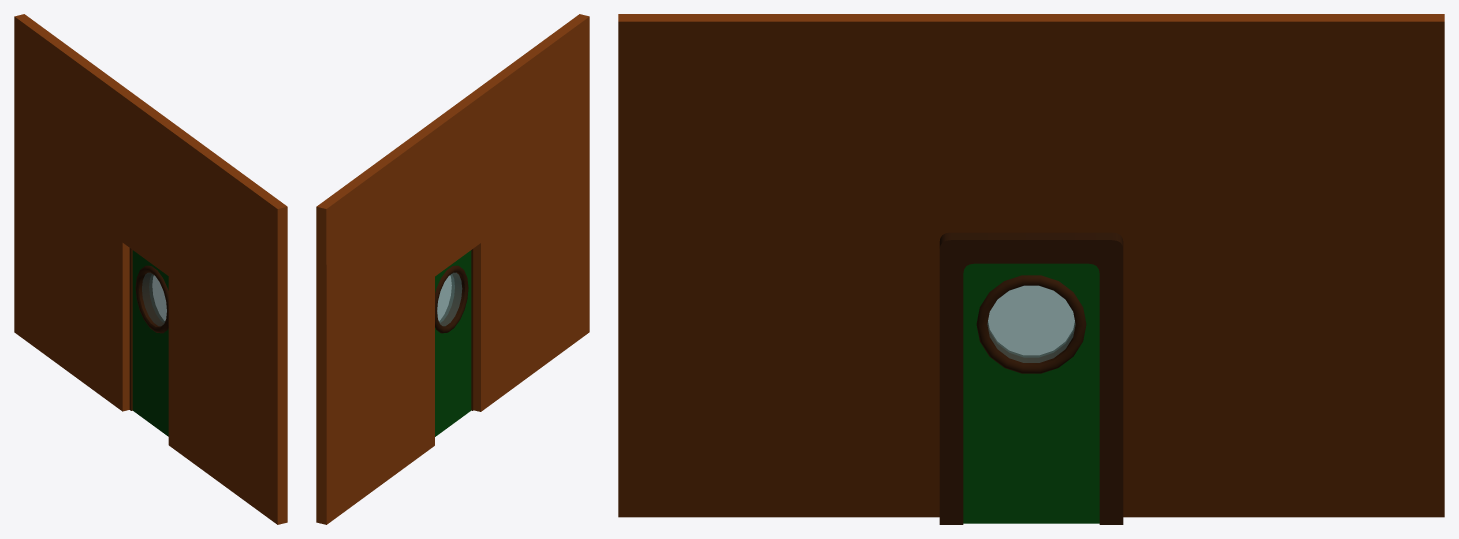
File: porte_murale.fbx
3 views of the same model, side by side, from view 1: azimuth 30°, elevation 25°; view 2: azimuth 150°, elevation 25°; view 3: azimuth 270°, elevation 25° (orthographic). The views are drawn at different scales.
Parts seen in each view (by area): view 1: Box118; view 2: Box118; view 3: Box118.
Part boxes in pixels (x1=…): Box118: x1=14, y1=14, x2=287, y2=524; Box118: x1=316, y1=14, x2=589, y2=524; Box118: x1=618, y1=14, x2=1444, y2=524.
Size of the model in its own units: 21.18 by 300 by 454.
